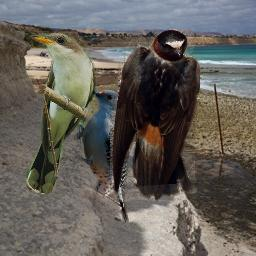Cuckoo: (26, 33, 97, 194)
Swallow: (110, 29, 200, 202)
Woodpecker: (73, 83, 129, 223)
